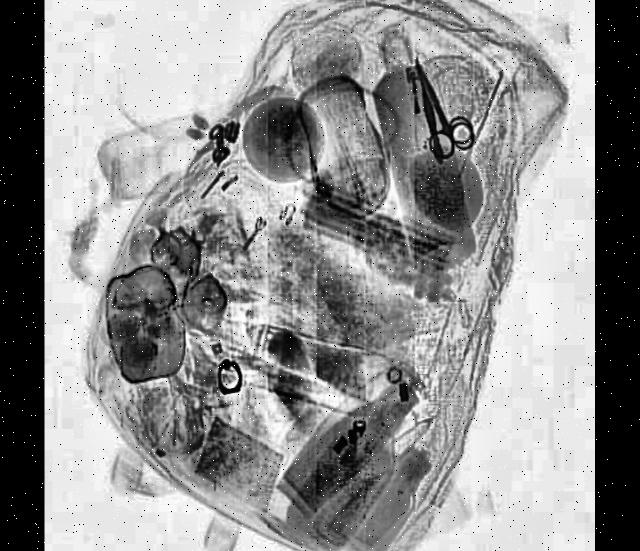Scissors: (399, 48, 482, 172)
